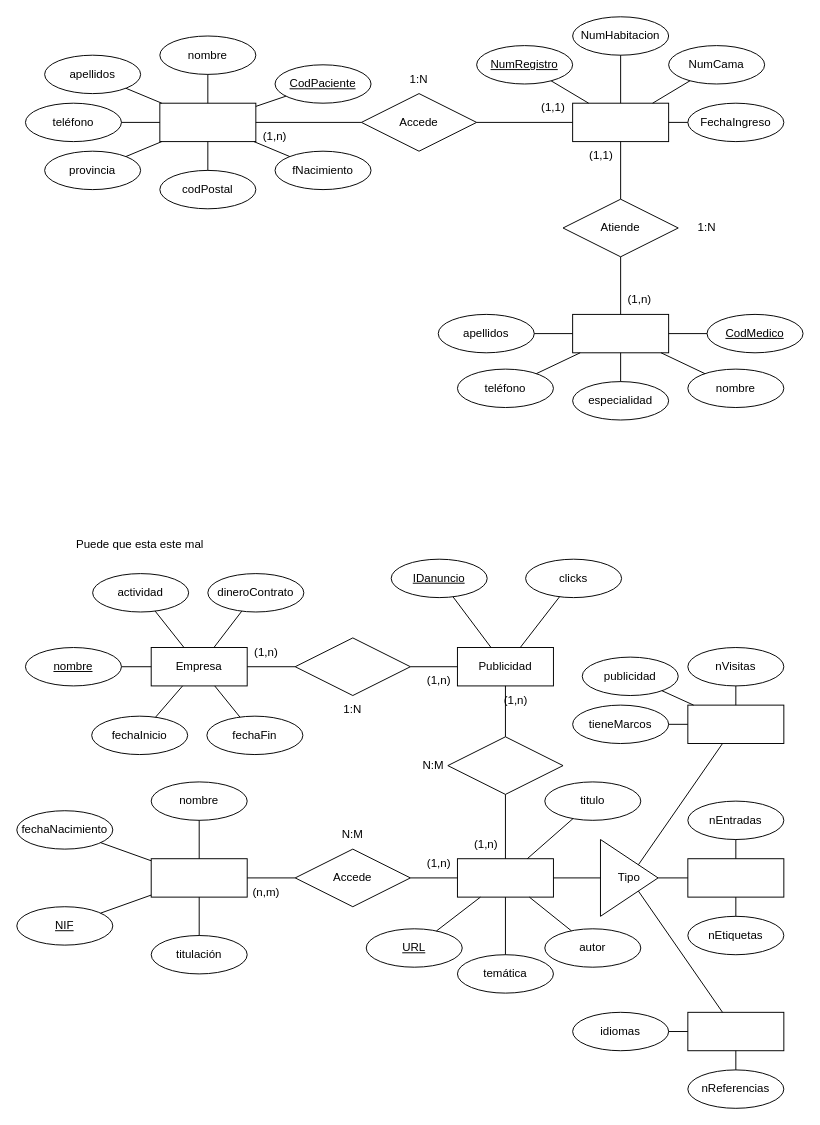
Some shapes in this 820 by 1125 pixel diagram are drawn without their labels. The box of each missing label's shape, as (x1, y1, x2, y2) in pixels:
Blog: (687, 858, 784, 897)
Convencional: (687, 704, 784, 744)
Genera: (294, 637, 410, 696)
Ingreso: (572, 102, 669, 142)
Médico: (572, 313, 669, 353)
Paciente: (159, 102, 256, 142)
PaginaWeb: (456, 858, 553, 897)
Usuario: (150, 858, 247, 897)
Utiliza: (447, 736, 563, 794)
Wiki: (687, 1011, 784, 1051)
